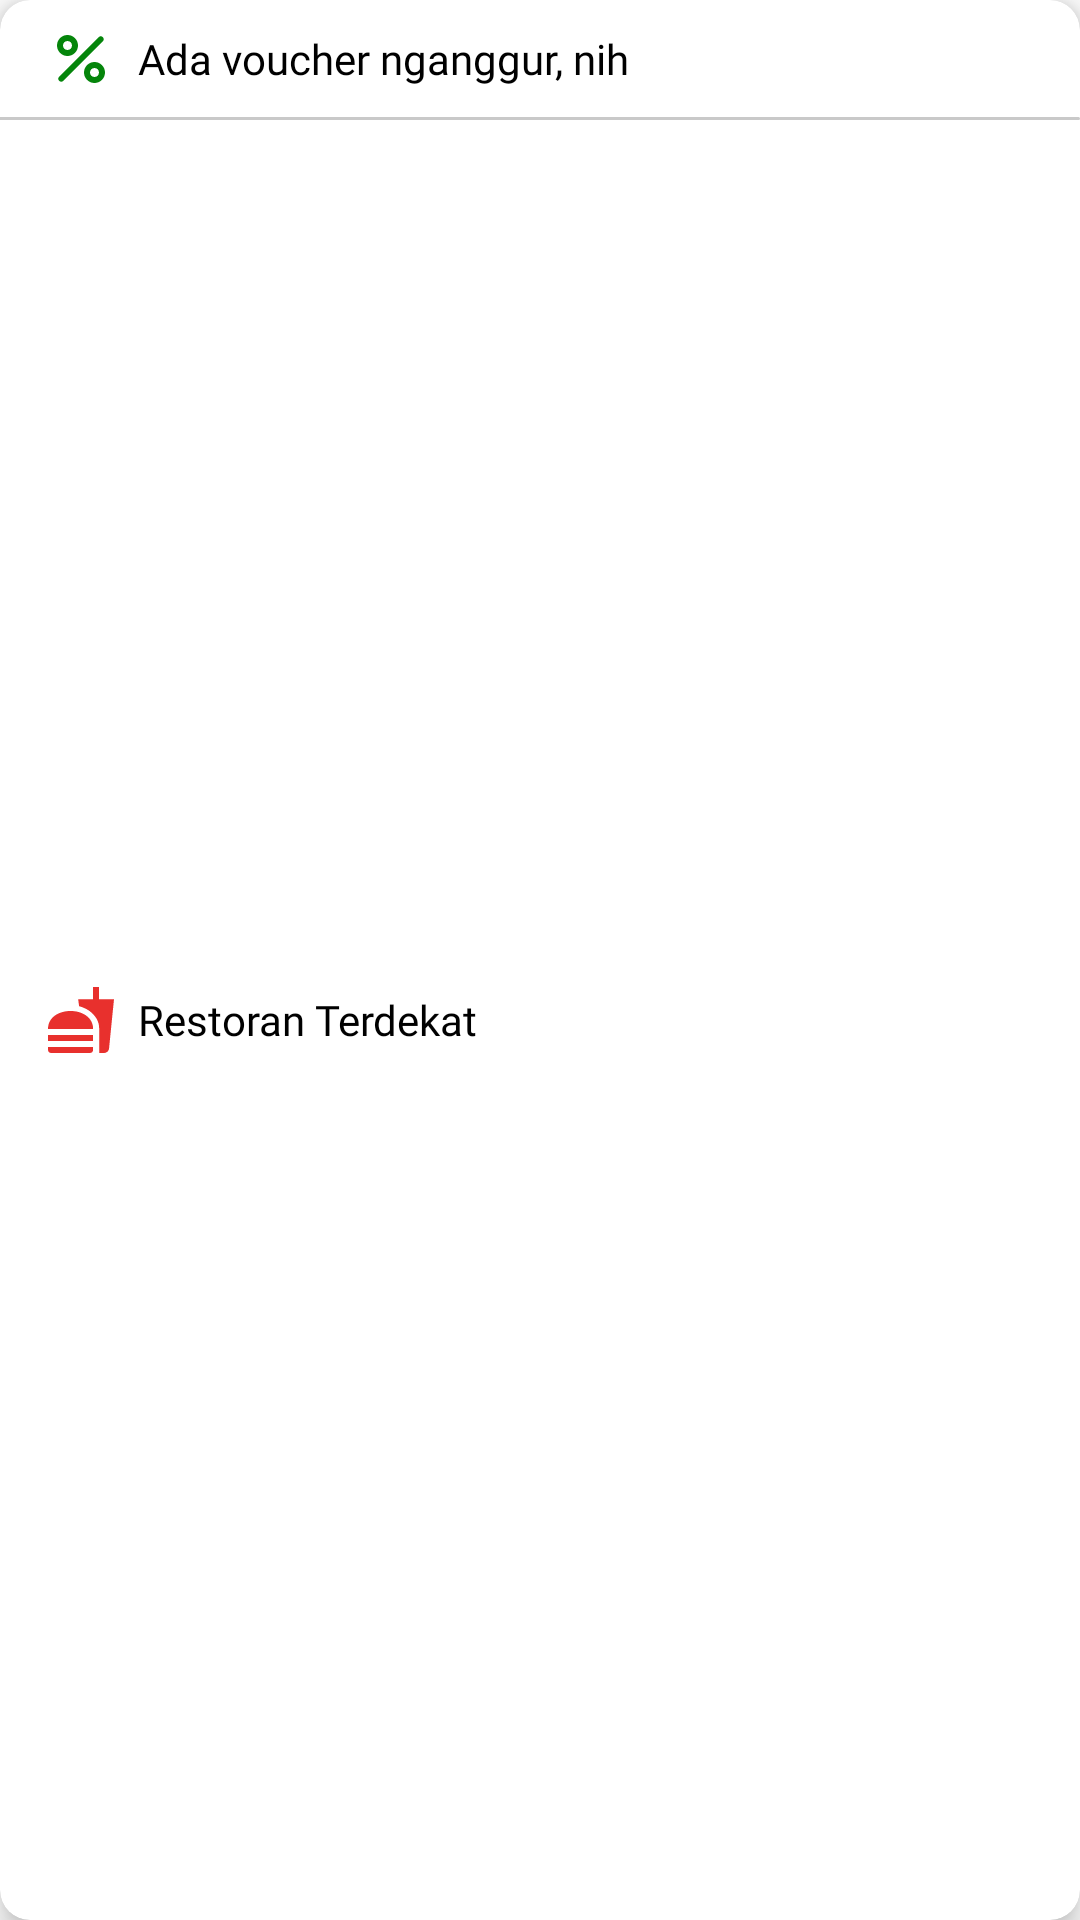

Named icons in this screenshot (1080 x 1920) and their centers, (x,y):
fastfood: (81,1020)
percent: (81,59)
